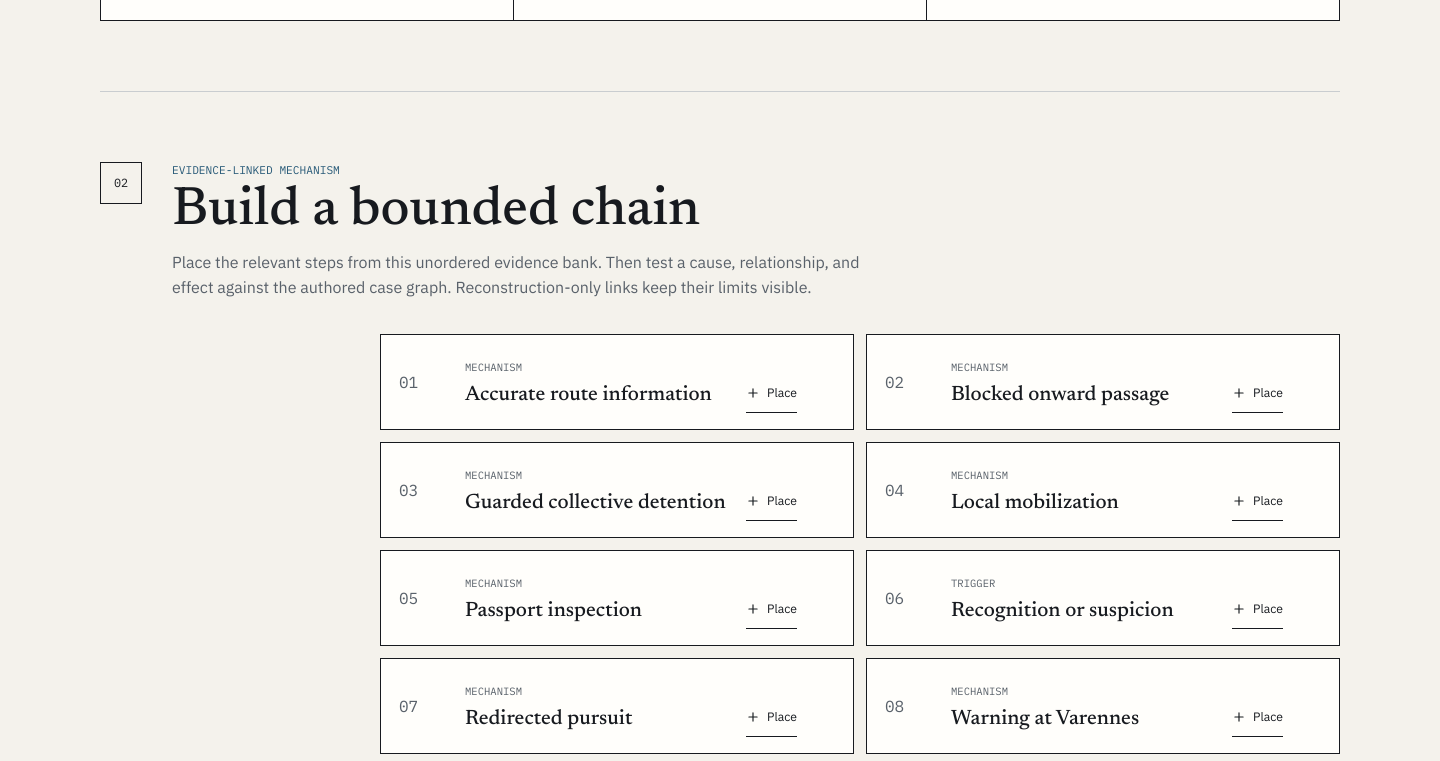
Test: causal caseboard and Case Brief › labels the detention links as bounded authored reconstructions during construction
(page scrolled)
Click the button "Place" next to "Blocked onward passage". click: (1258,393)
box: [1232, 374, 1283, 413]
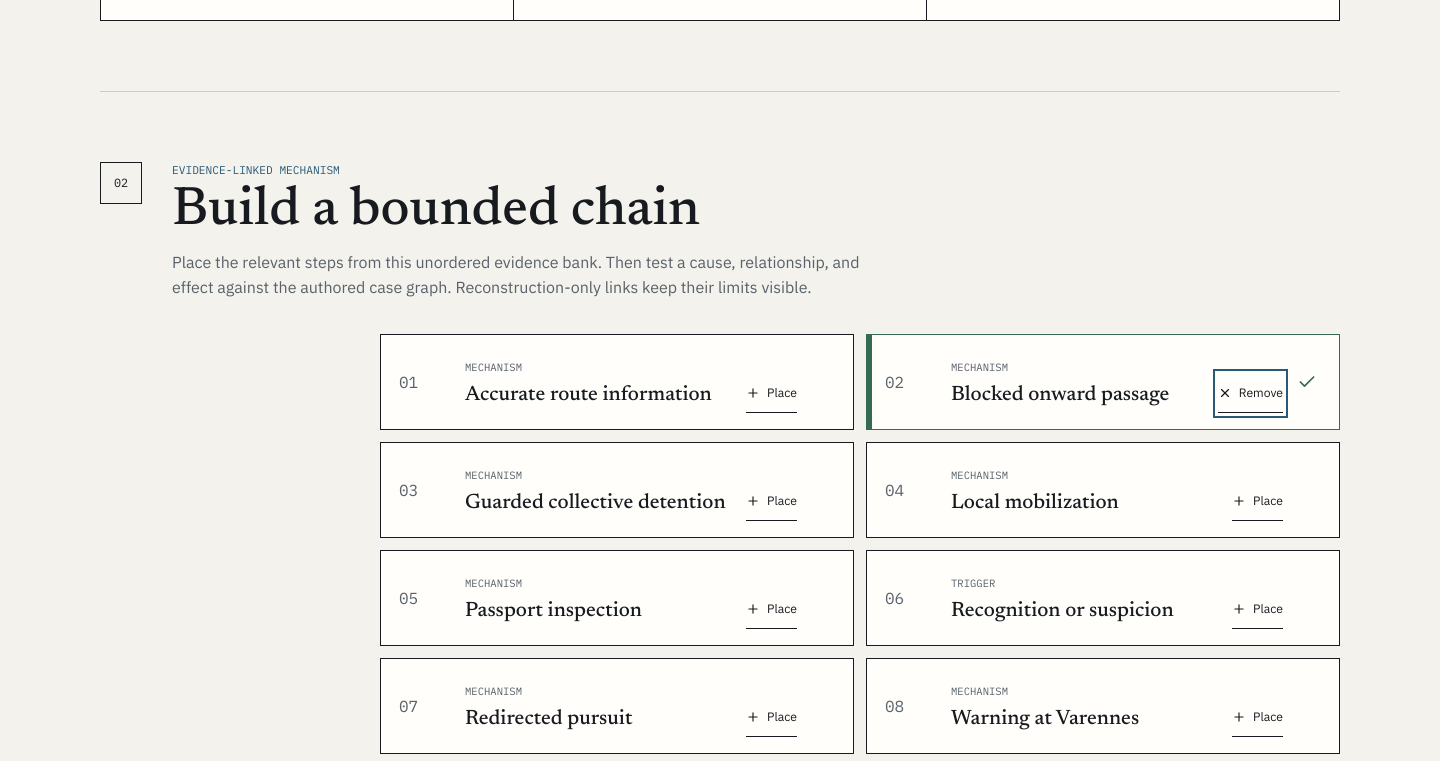
Click the button "Place" next to "Guarded collective detention". click: (772,501)
box: [746, 482, 797, 521]
(page scrolled)
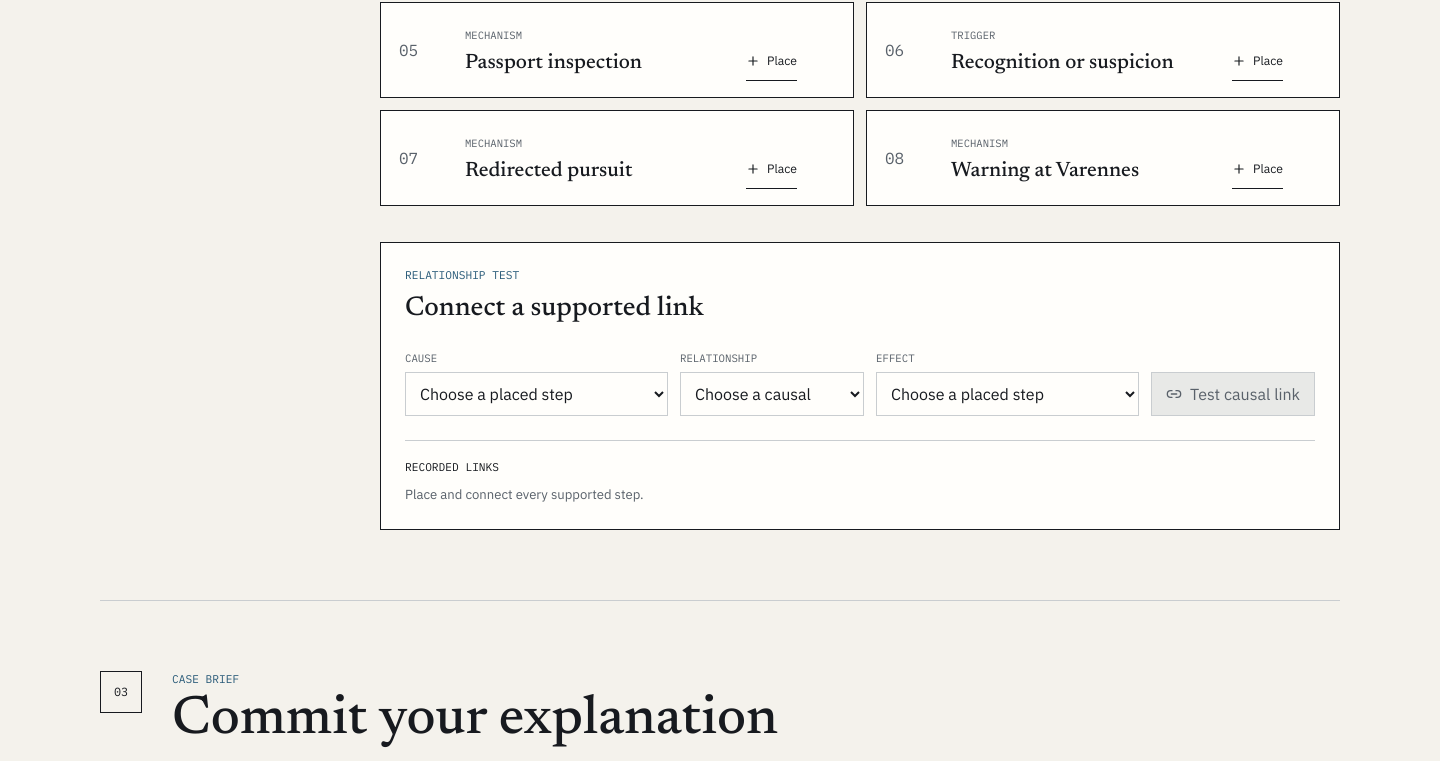
Select "Blocked onward passage" in the dropdown labelled "Cause". click: (536,394)
box: [405, 372, 668, 416]
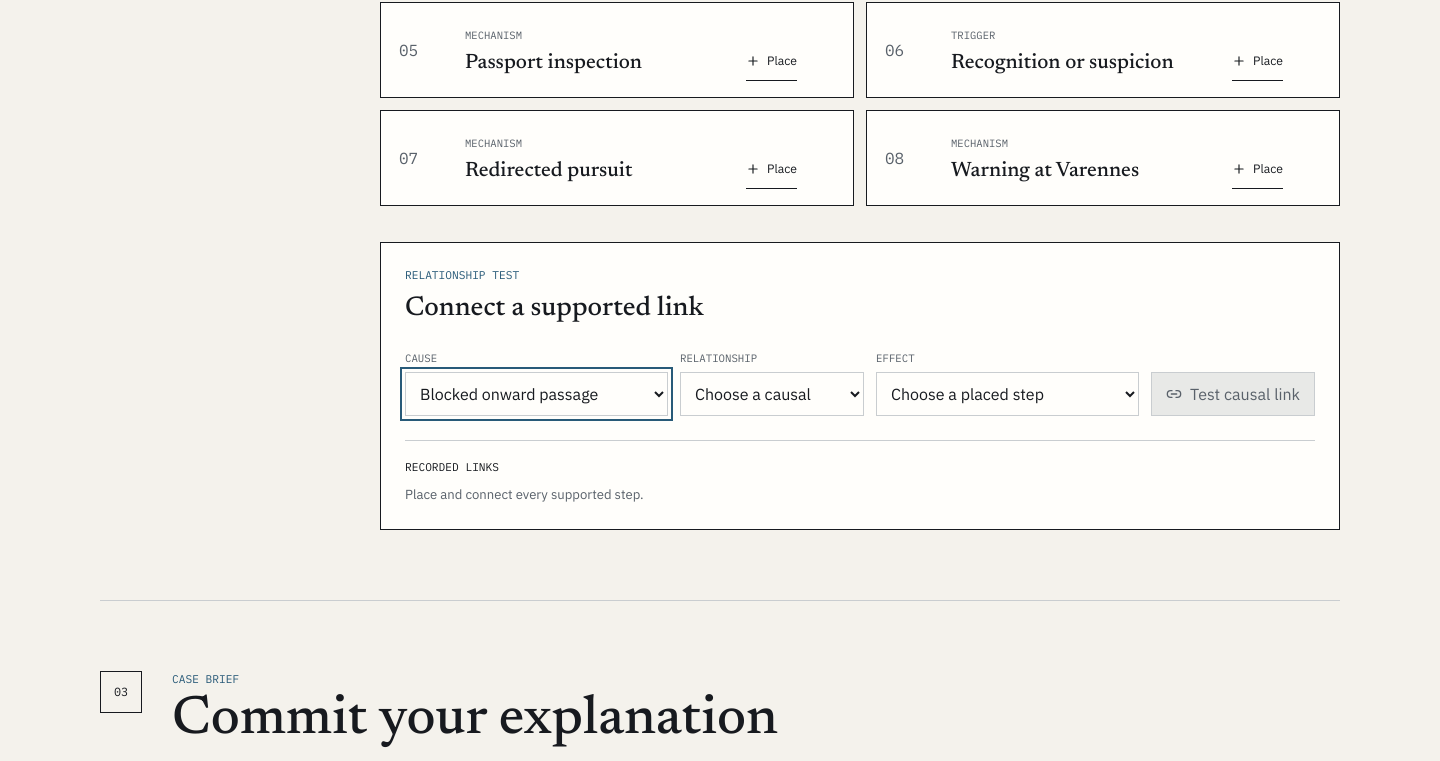
Select "contributed to" in the dropdown labelled "Relationship". click: (772,394)
box: [680, 372, 864, 416]
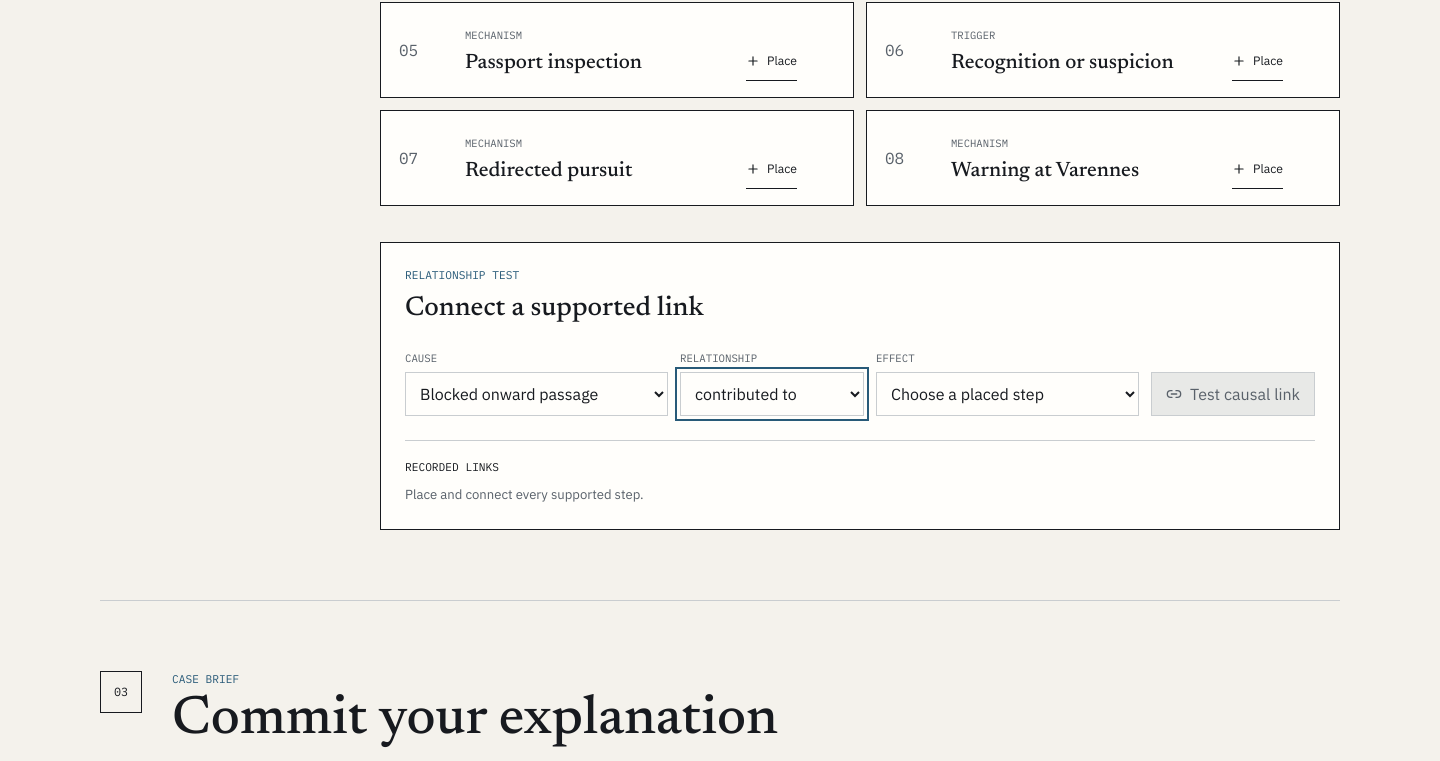
Select "Guarded collective detention" in the dropdown labelled "Effect". click: (1008,394)
box: [876, 372, 1139, 416]
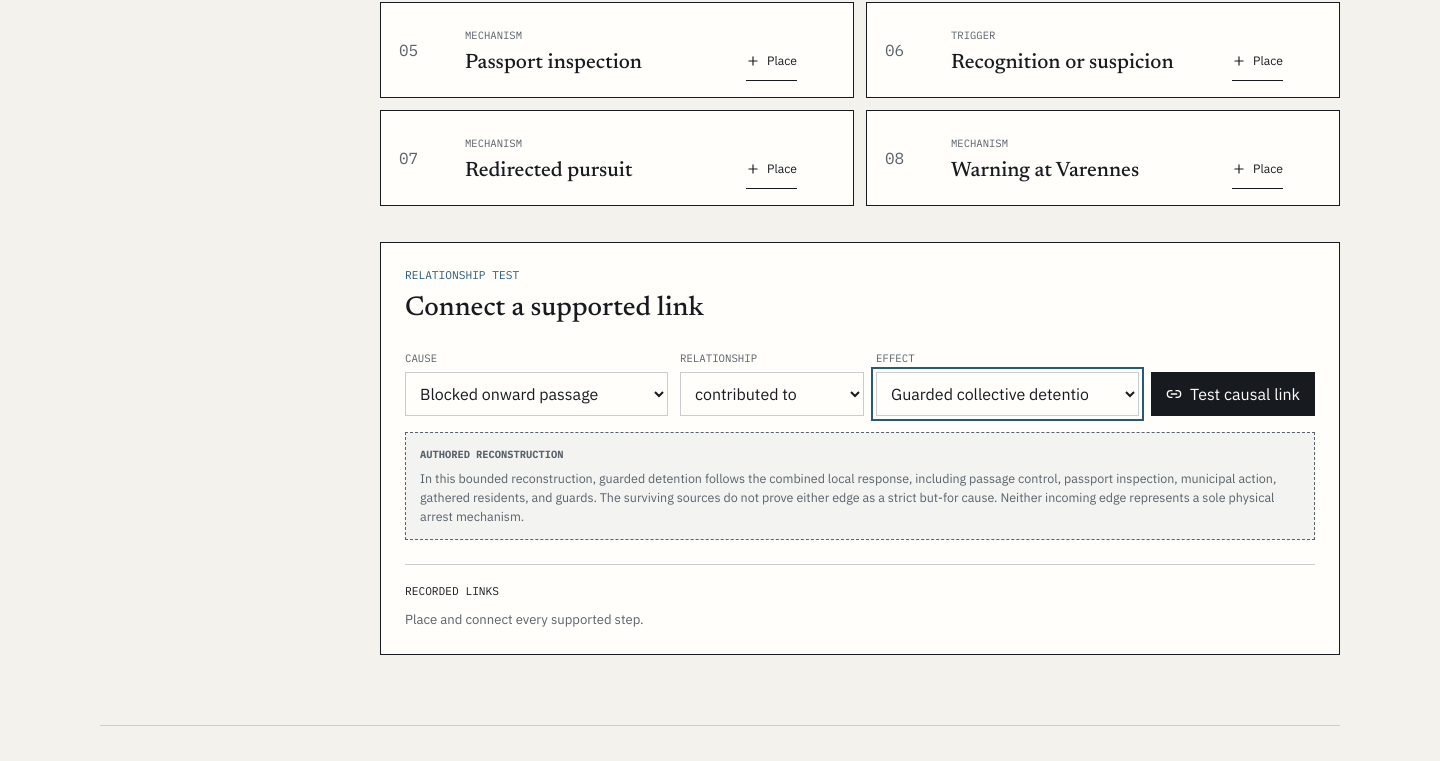
Result: the text "Authored reconstruction" is shown at [420, 447, 563, 461]
Click the button "Test causal link". click: (1233,394)
box: [1151, 372, 1315, 416]
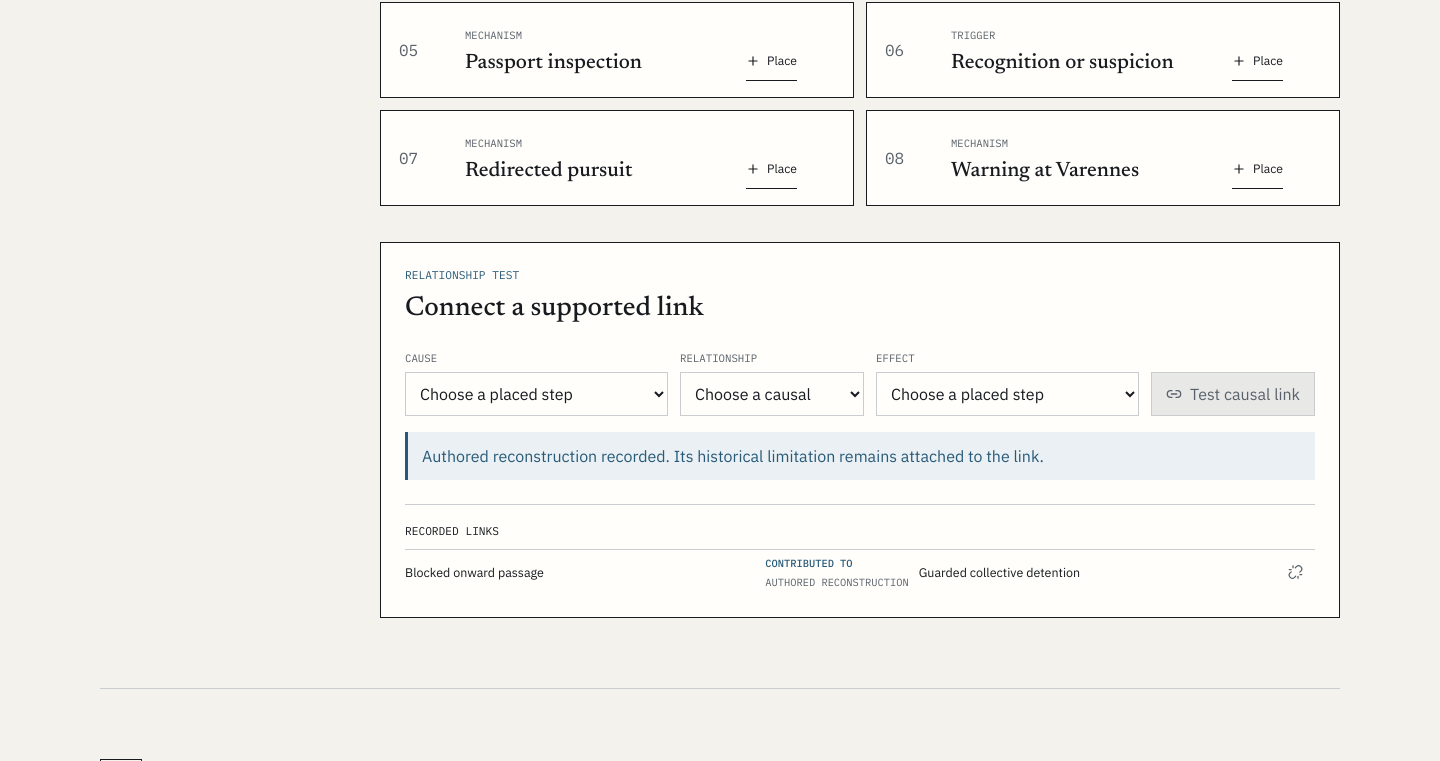
Result: the text "Authored reconstruction recorded" is shown at [422, 446, 1044, 466]
